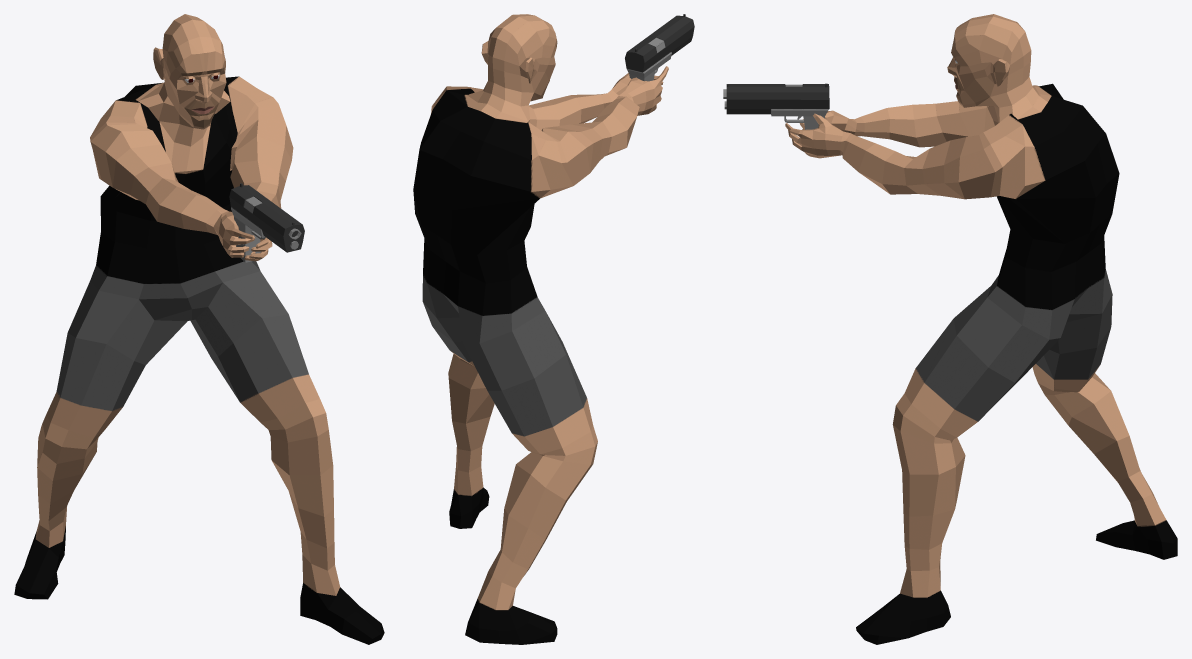
File: PlayerShoot(30).obj
3 views of the same model, side by side, from view 1: azimuth 30°, elevation 25°; view 2: azimuth 150°, elevation 25°; view 3: azimuth 270°, elevation 25° (orthographic). The views are drawn at different scales.
Visible parts, largest first — view 1: Plane002, Box003; view 2: Plane002, Box003; view 3: Plane002, Box003.
Boxes of the visible parts, x1=… form: Plane002: x1=14, y1=14, x2=384, y2=644; Box003: x1=229, y1=183, x2=304, y2=262; Plane002: x1=413, y1=14, x2=668, y2=644; Box003: x1=625, y1=14, x2=694, y2=81; Plane002: x1=785, y1=14, x2=1177, y2=644; Box003: x1=723, y1=83, x2=829, y2=151.
Bounding box in the file's own units: 714 × 1665 × 1208.
